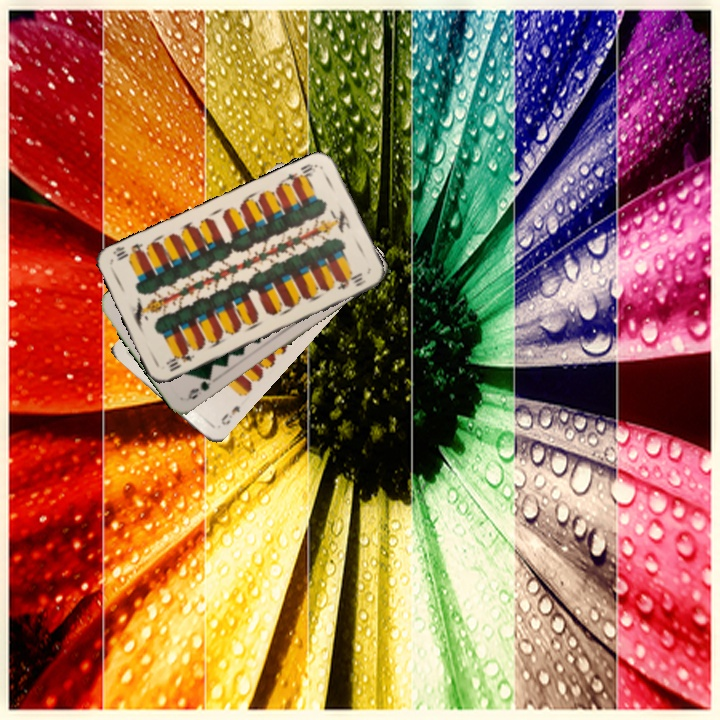E10: (282, 159, 320, 188), (162, 346, 197, 374)
E9: (217, 401, 243, 428)
G9: (184, 371, 214, 402)
